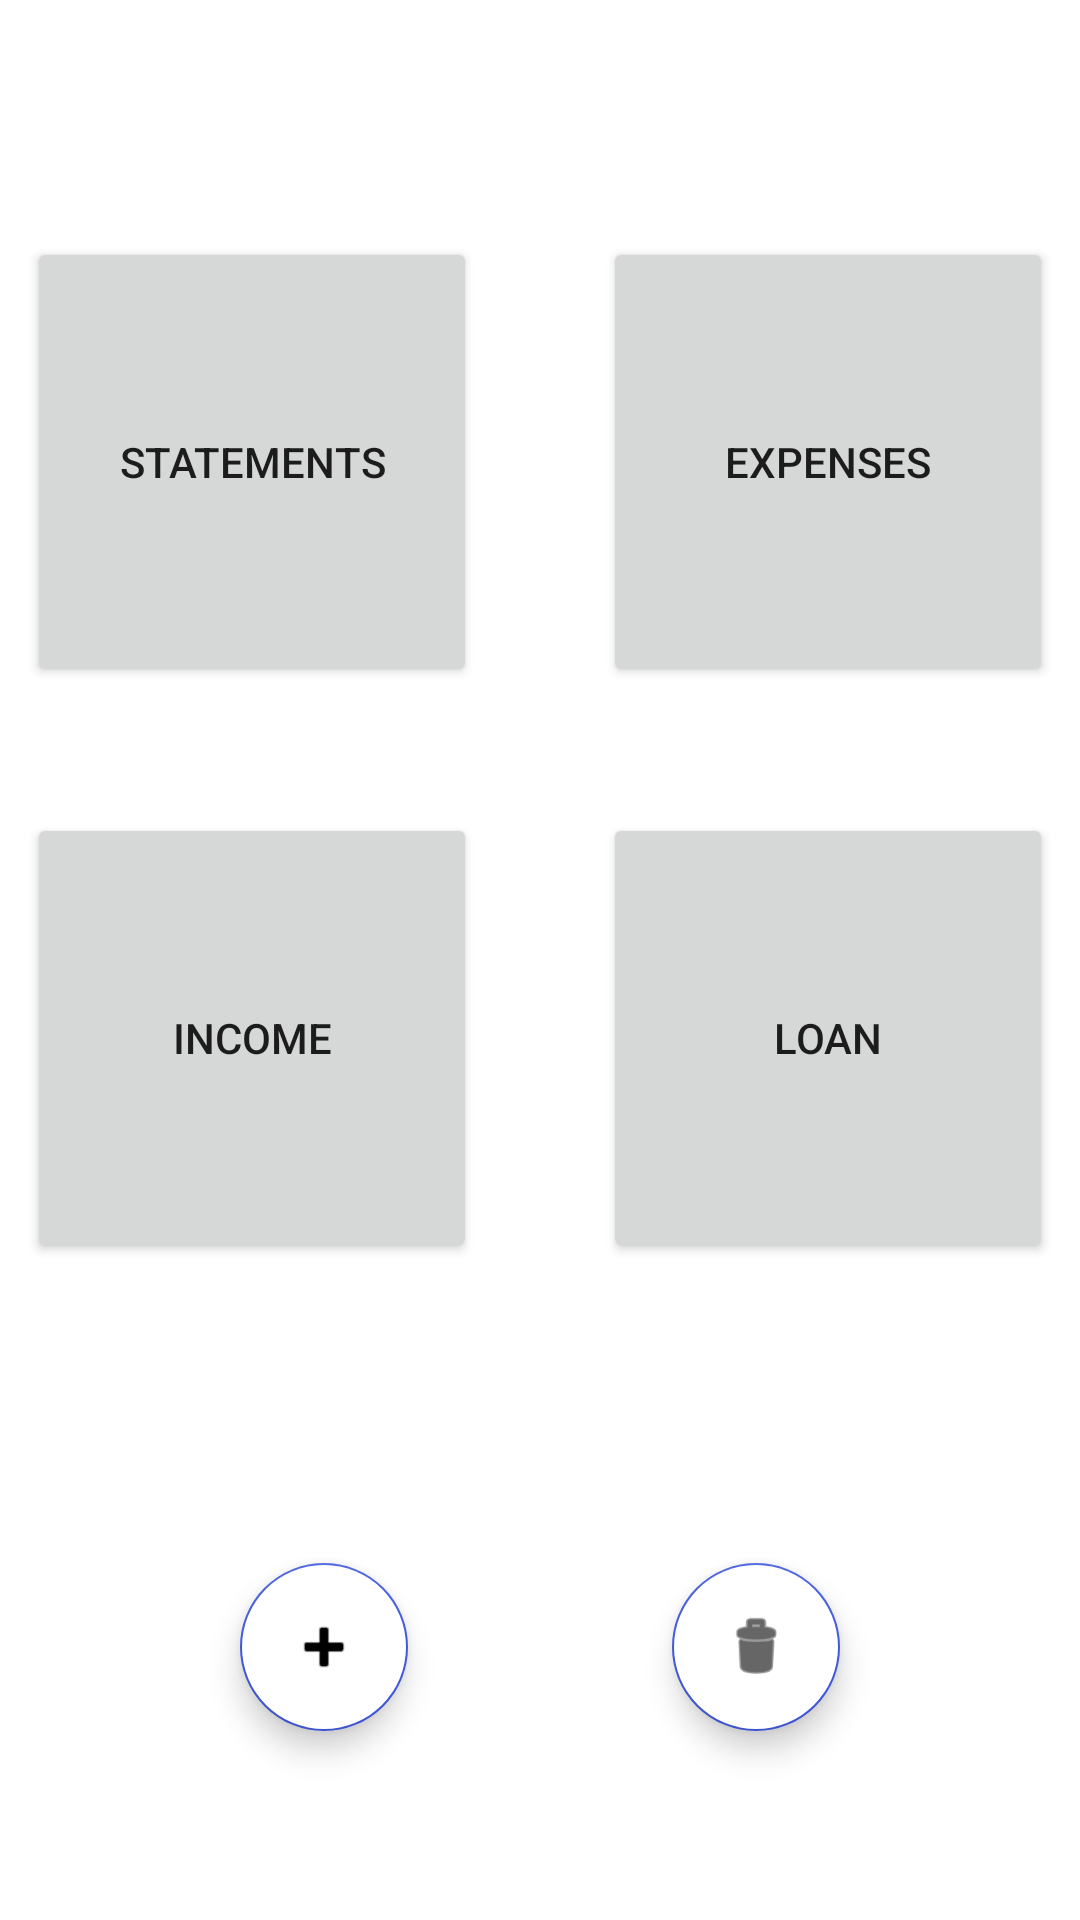

Icon bounding boxes for this 1080 × 1920 phone screenshot, format (x1,y1,x2,y2):
add: (240,1563,408,1731)
delete: (672,1563,840,1731)
